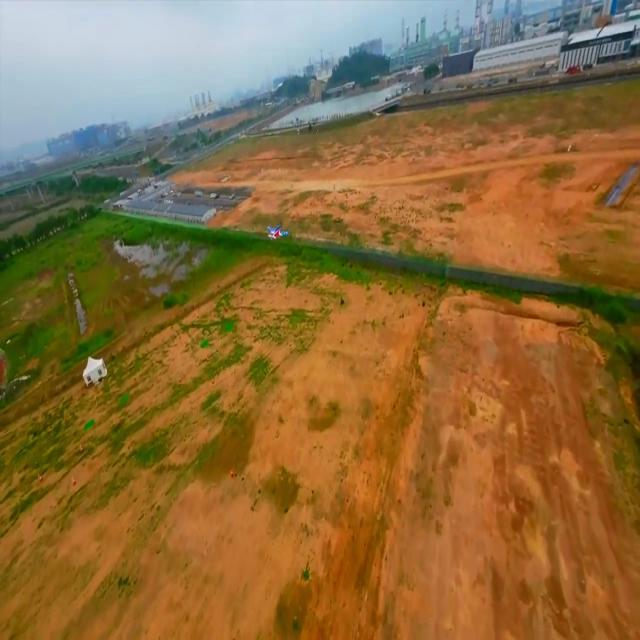iha: (266, 223, 290, 241)
